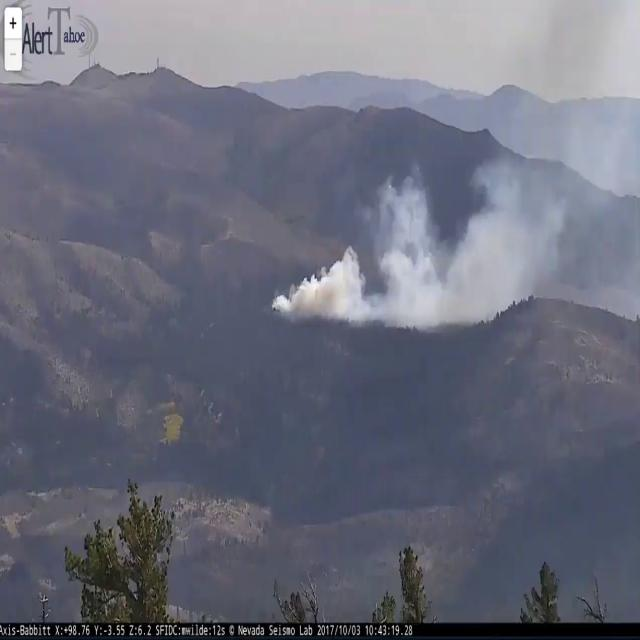smoke: (269, 60, 640, 329)
